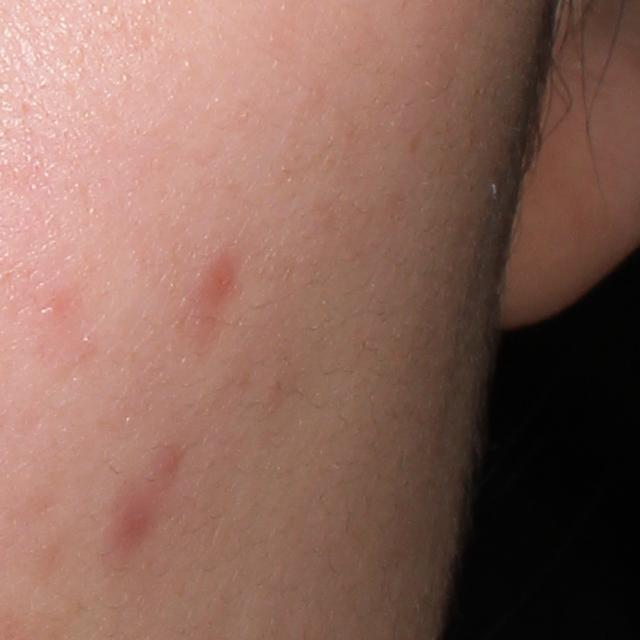papule: (194, 249, 234, 299)
